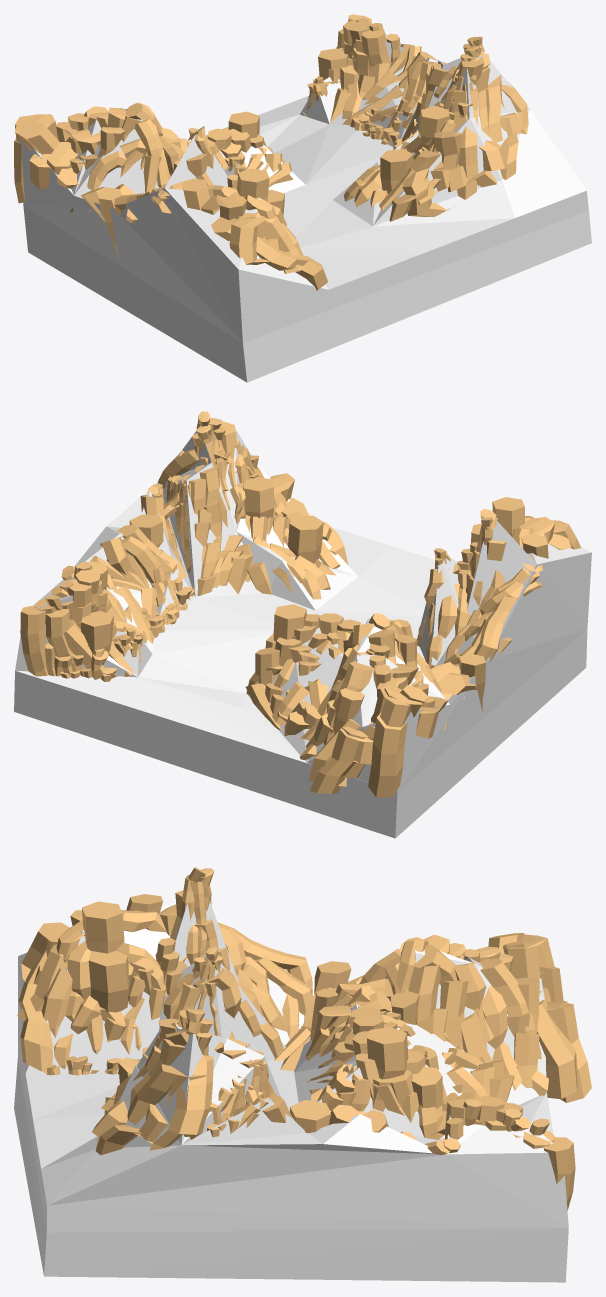
Rendered from terrainsnow.obj.
3 views of the same model, one above another, from view 1: azimuth 30°, elevation 25°; view 2: azimuth 150°, elevation 25°; view 3: azimuth 270°, elevation 25° (orthographic). The views are drawn at different scales.
Parts seen in each view (by area): view 1: group1213442301, group1232652771, group1020127045, group576018752, group1915387679, group1830459623, group981096431, group1732306317, group1246920881, group2008133471, group7037442, group417484841 (+13 smaller); view 2: group1213442301, group576018752, group1419796086, group1246920881, group1879629759, group1732306317, group1020127045, group7037442, group1232652771, group1098835944, group309405523, group1915387679 (+23 smaller); view 3: group1213442301, group1232652771, group1419796086, group1246920881, group576018752, group1915387679, group1020127045, group1830459623, group406904929, group1732306317, group417484841, group1651196243 (+39 smaller).
Part boxes in pixels (bbox=[...]): group1213442301: bbox=[19, 33, 591, 382]; group1232652771: bbox=[402, 66, 520, 204]; group1020127045: bbox=[182, 178, 303, 273]; group576018752: bbox=[303, 14, 390, 116]; group1915387679: bbox=[389, 69, 528, 221]; group1830459623: bbox=[211, 217, 327, 290]; group981096431: bbox=[29, 142, 80, 189]; group1732306317: bbox=[14, 114, 59, 154]; group1246920881: bbox=[205, 128, 265, 165]; group2008133471: bbox=[56, 113, 98, 173]; group7037442: bbox=[380, 149, 413, 193]; group417484841: bbox=[237, 168, 269, 201]; group1213442301: bbox=[14, 430, 591, 838]; group576018752: bbox=[20, 561, 143, 681]; group1419796086: bbox=[308, 719, 374, 793]; group1246920881: bbox=[255, 613, 360, 685]; group1879629759: bbox=[368, 712, 407, 797]; group1732306317: bbox=[371, 685, 428, 727]; group1020127045: bbox=[519, 517, 581, 558]; group7037442: bbox=[288, 515, 323, 563]; group1232652771: bbox=[179, 446, 331, 540]; group1098835944: bbox=[473, 596, 516, 661]; group309405523: bbox=[243, 477, 274, 518]; group1915387679: bbox=[157, 449, 348, 564]; group1213442301: bbox=[14, 868, 568, 1282]; group1232652771: bbox=[92, 1038, 206, 1143]; group1419796086: bbox=[537, 987, 591, 1102]; group1246920881: bbox=[334, 1007, 443, 1111]; group576018752: bbox=[445, 1096, 575, 1210]; group1915387679: bbox=[95, 1055, 213, 1155]; group1020127045: bbox=[17, 894, 162, 1021]; group1830459623: bbox=[18, 951, 53, 1073]; group406904929: bbox=[88, 950, 129, 1013]; group1732306317: bbox=[488, 933, 554, 979]; group417484841: bbox=[82, 901, 124, 953]; group1651196243: bbox=[367, 1027, 408, 1079].
Size of the model in its own units: 1.64 by 0.9361 by 1.61.
